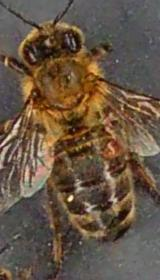varroa_mite: (98, 137, 121, 160)
